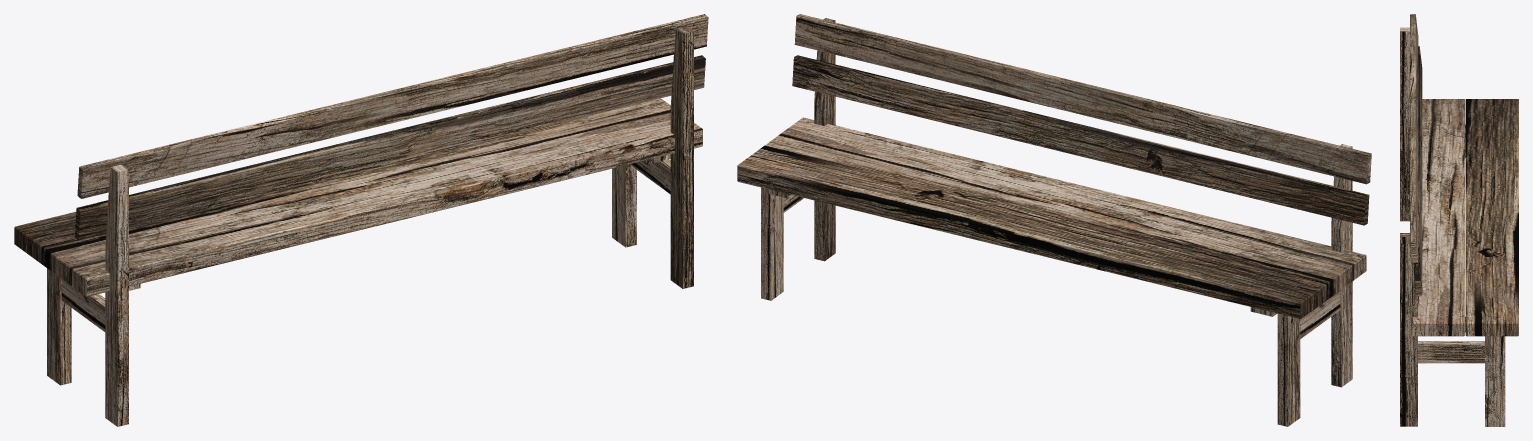
The model's file is bench.FBX.
3 views of the same model, side by side, from view 1: azimuth 30°, elevation 25°; view 2: azimuth 150°, elevation 25°; view 3: azimuth 270°, elevation 25° (orthographic). The views are drawn at different scales.
Parts seen in each view (by area): view 1: Plane001; view 2: Plane001; view 3: Plane001.
Boxes of the visible parts, x1,y1,x2,y2 form: Plane001: [14, 14, 708, 426]; Plane001: [737, 14, 1371, 426]; Plane001: [1400, 14, 1518, 426].
Size of the model in its own units: 4.33 by 1.72 by 0.9575.
Materials: 1 (1 with a texture image).
